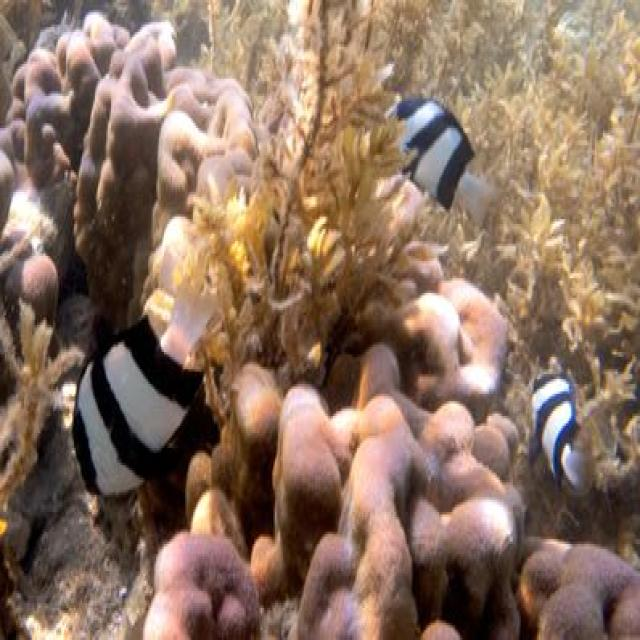ThreeStripedDamselfish: (72, 276, 218, 503), (528, 368, 587, 487)
